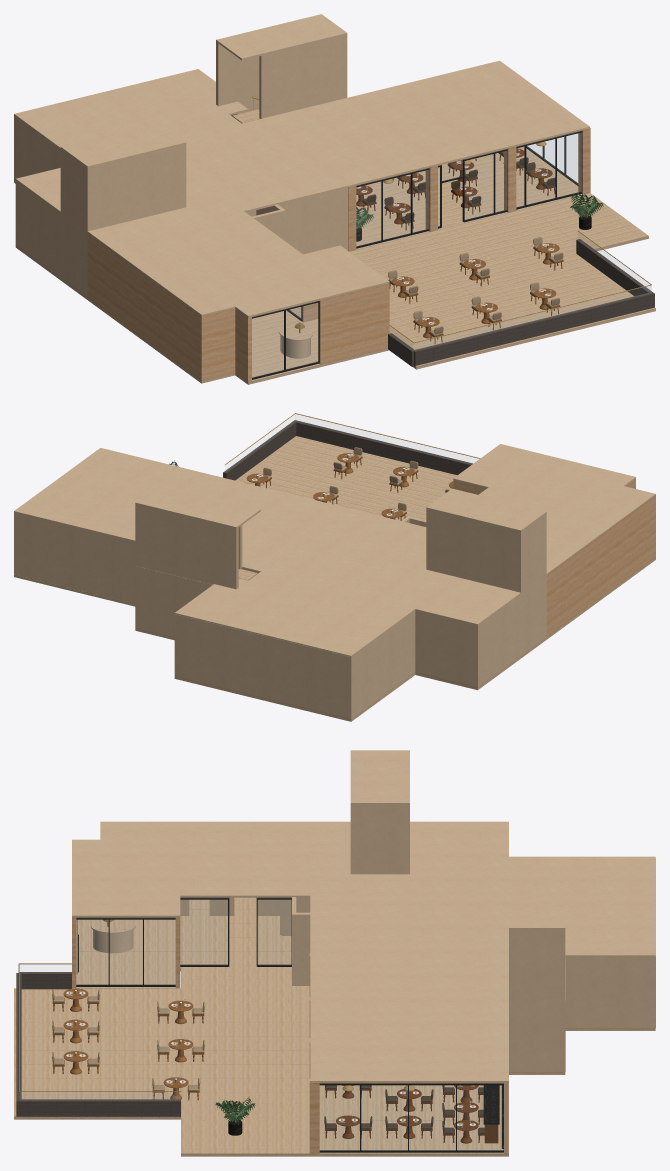
File: interior.glb
3 views of the same model, one above another, from view 1: azimuth 30°, elevation 25°; view 2: azimuth 150°, elevation 25°; view 3: azimuth 270°, elevation 25° (orthographic). The views are drawn at different scales.
Parts seen in each view (by area): view 1: ivory, limestone, travertine, basalt, frame, teak, walnut, glass, linen, leather, leaf, bronze; view 2: ivory, limestone, travertine, basalt, teak, linen; view 3: ivory, limestone, basalt, walnut, teak, frame, travertine, linen, leather, bronze, slate, leaf.
Part boxes in pixels (x1,y1,x2,y2): ivory: (14,14,589,358); limestone: (14,109,655,384); travertine: (87,128,590,381); basalt: (252,130,654,366); frame: (252,131,581,379); teak: (388,243,563,344); walnut: (356,148,555,230); glass: (288,134,651,319); linen: (357,153,563,335); leather: (362,152,555,221); leaf: (356,192,603,229); bronze: (252,96,651,343); ivory: (14,444,655,719); limestone: (14,436,655,721); travertine: (453,479,655,636); basalt: (223,420,472,480); teak: (246,453,453,520); linen: (244,447,449,515); ivory: (72,750,655,1153); limestone: (14,897,655,1156); basalt: (16,897,503,1117); walnut: (325,1085,498,1143); teak: (52,988,204,1100); frame: (76,898,503,1152); travertine: (72,917,319,1153); linen: (52,989,473,1125); leather: (324,1085,484,1133); bronze: (18,919,501,1147); slate: (483,1085,499,1124); leaf: (215,1096,255,1123).
Bounding box in the file's own units: 25.77 × 6.8 × 26.92.
Materials: 24 (14 with a texture image).
